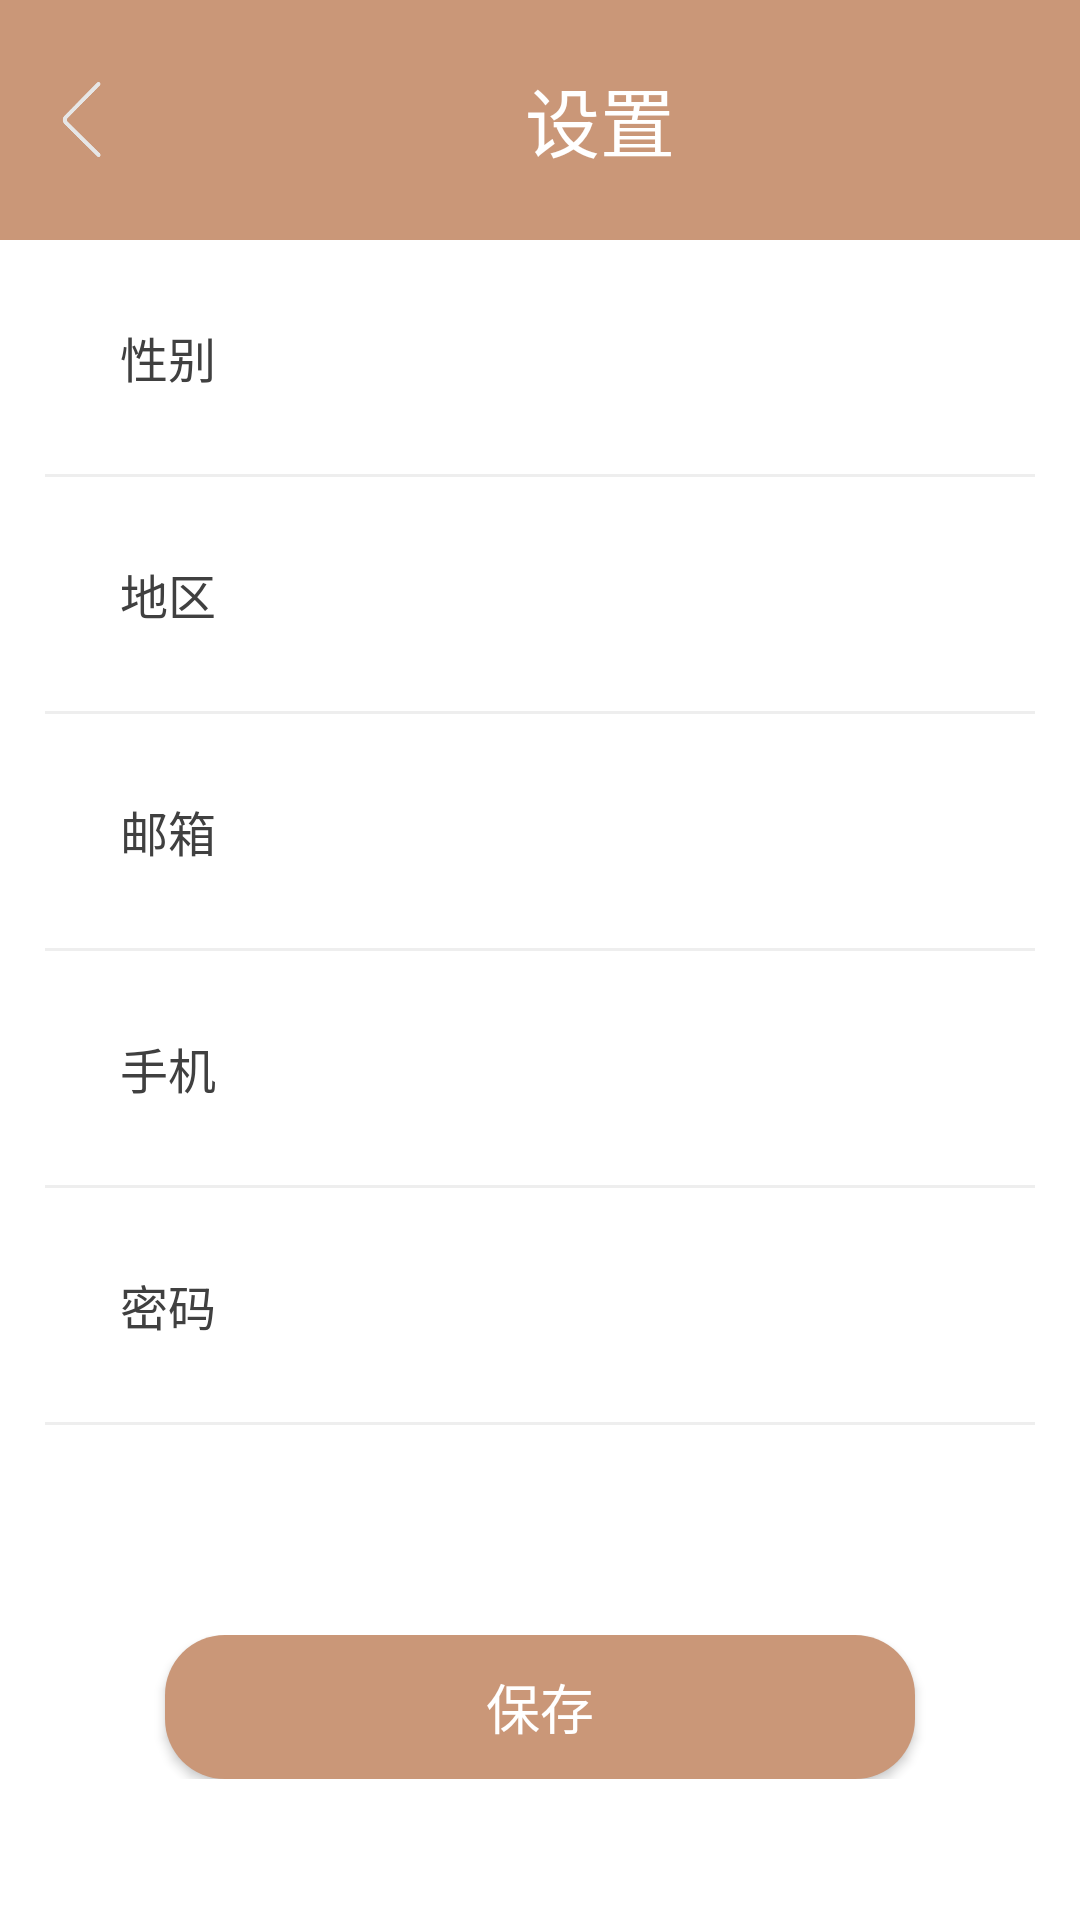

Icons on this 1080 × 1920 Android screen, each with the point to tap as (x=x, y=y):
back: (x=82, y=119)
